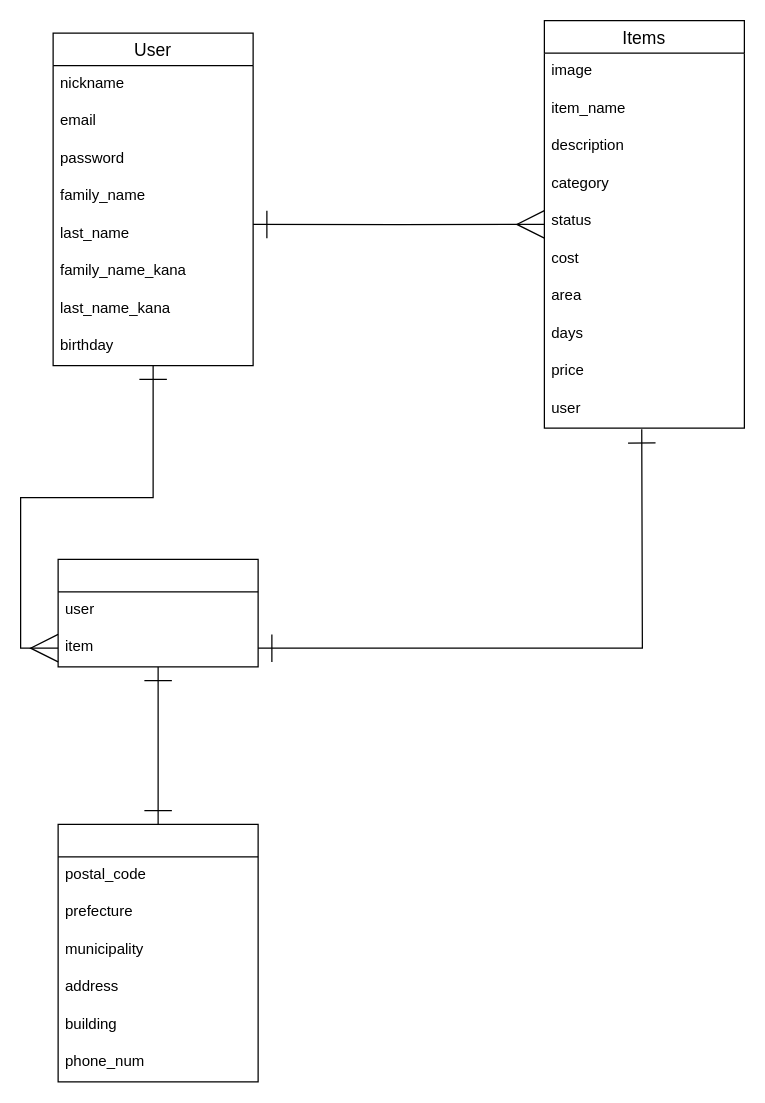
This 765x1103 diagram has some shape labels left out. Each missing label, with the box of its shape:
Orders: (57, 558, 258, 667)
Shipping_info: (57, 823, 258, 1082)
